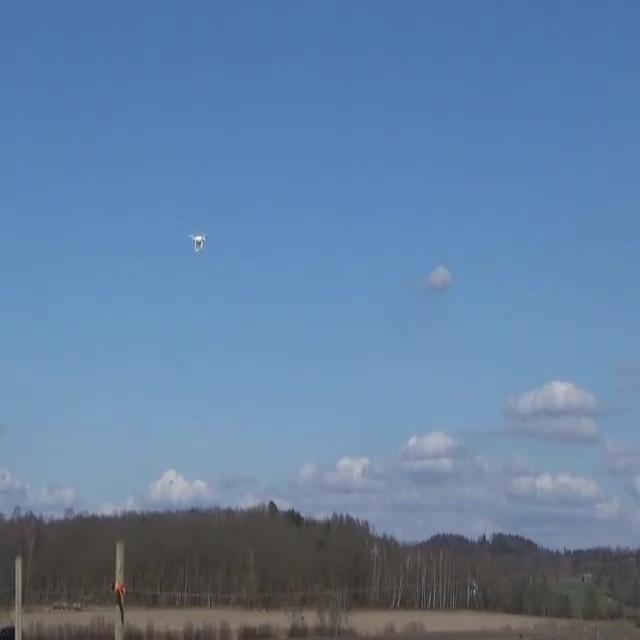drone: (188, 232, 206, 252)
